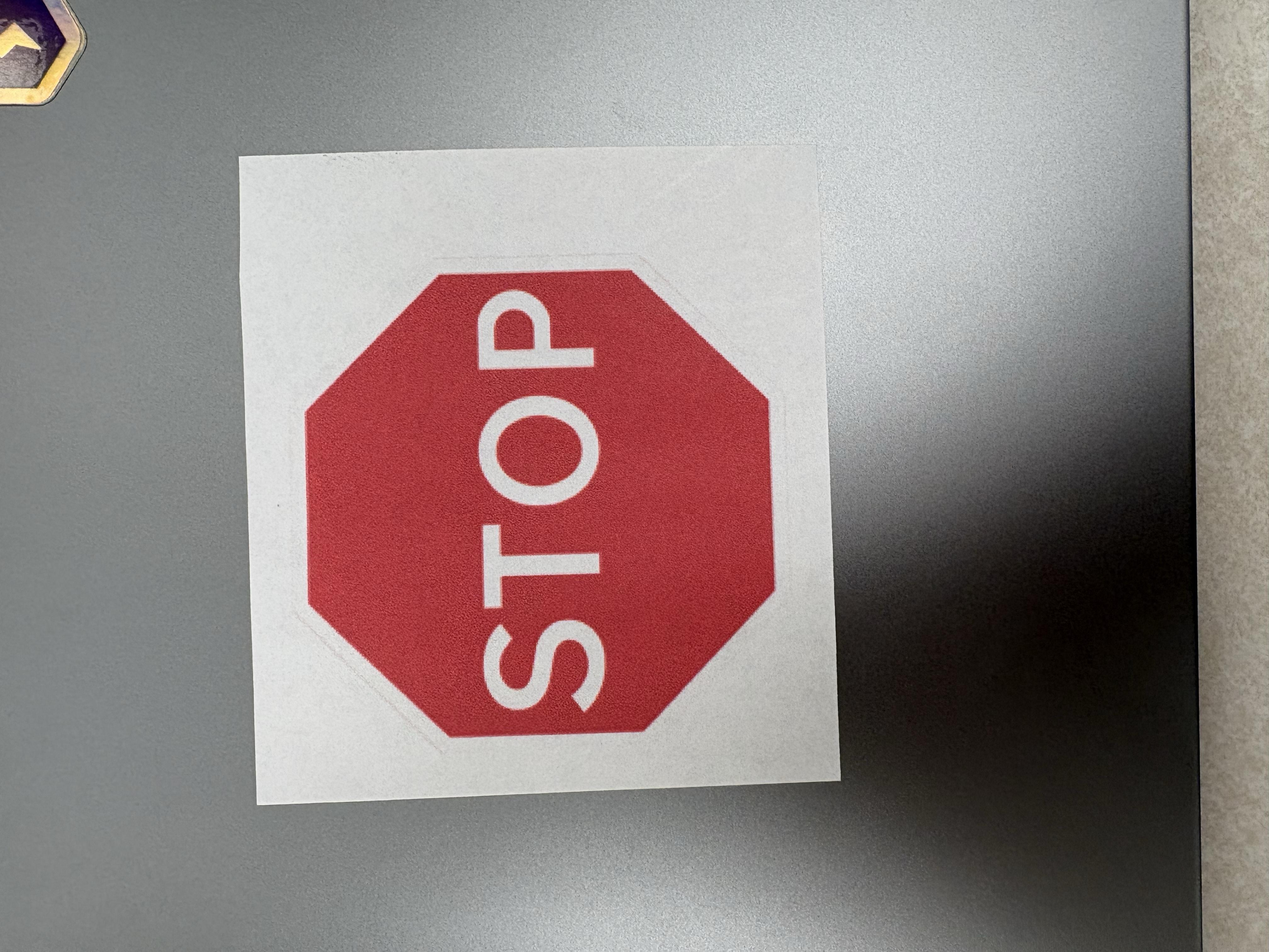Stop: (240, 147, 843, 809)
